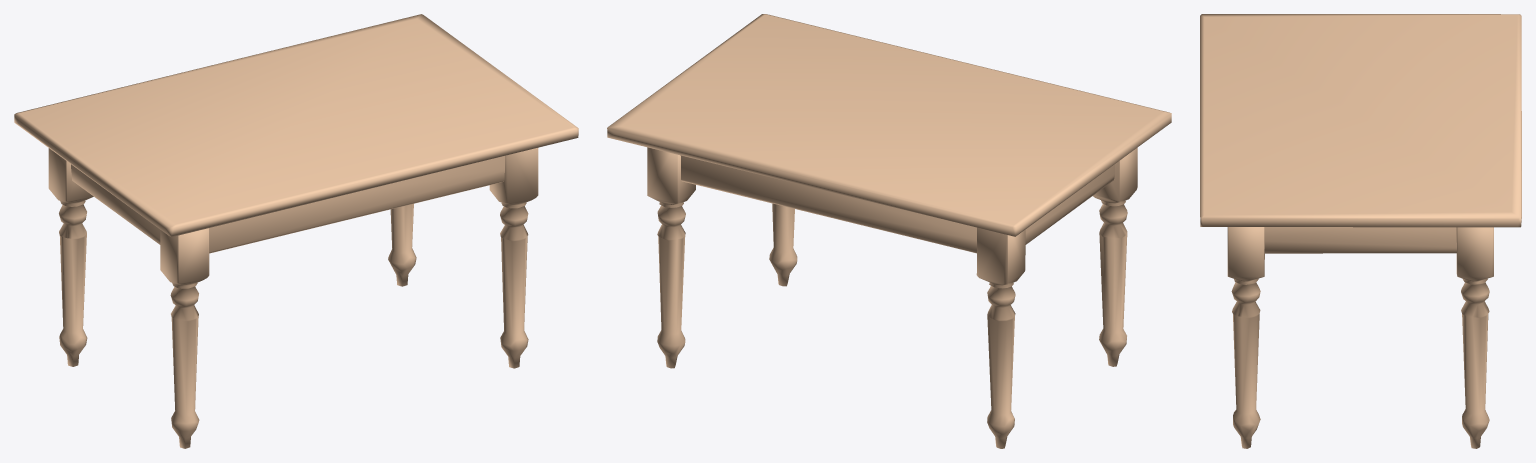
The model's file is tavolo.glb.
3 views of the same model, side by side, from view 1: azimuth 30°, elevation 25°; view 2: azimuth 150°, elevation 25°; view 3: azimuth 270°, elevation 25° (orthographic). The views are drawn at different scales.
Parts seen in each view (by area): view 1: 10233_Kitchen_Table_v2_max2011_it2; view 2: 10233_Kitchen_Table_v2_max2011_it2; view 3: 10233_Kitchen_Table_v2_max2011_it2.
Part boxes in pixels (x1,y1,x2,y2): 10233_Kitchen_Table_v2_max2011_it2: [14, 14, 578, 448]; 10233_Kitchen_Table_v2_max2011_it2: [607, 14, 1171, 448]; 10233_Kitchen_Table_v2_max2011_it2: [1200, 14, 1521, 448].
Bounding box in the file's own units: 3.99 × 2.28 × 2.65.
